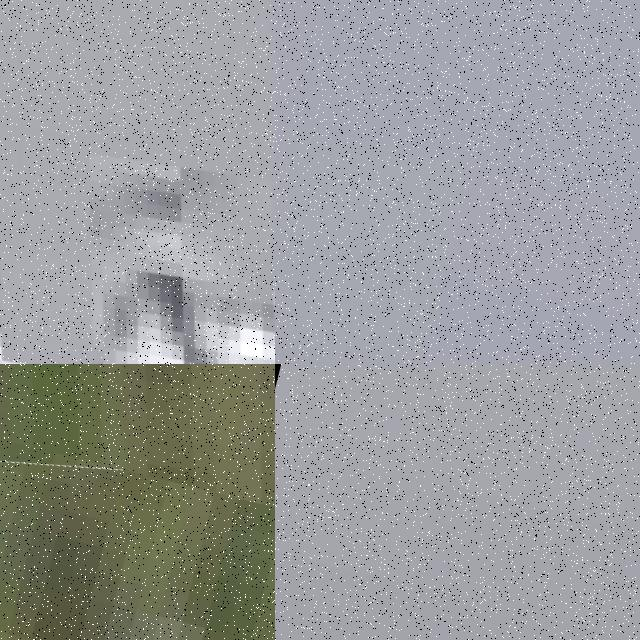drone: (0, 0, 275, 364), (0, 364, 275, 578)
